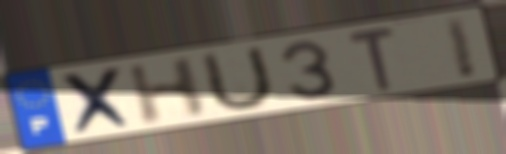3: (276, 38, 341, 102)
H: (124, 53, 210, 128)
I: (440, 13, 481, 82)
T: (343, 25, 401, 94)
U: (200, 43, 278, 116)
X: (57, 63, 140, 139)
